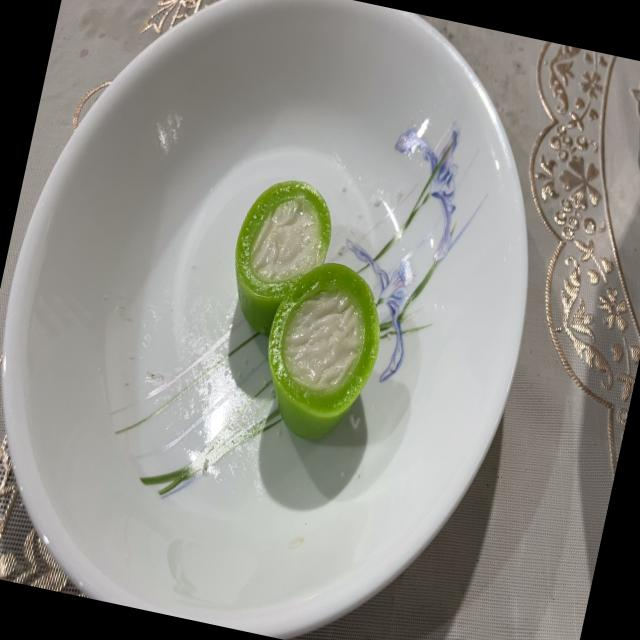nona-manis: (268, 263, 379, 439), (234, 180, 331, 334)
